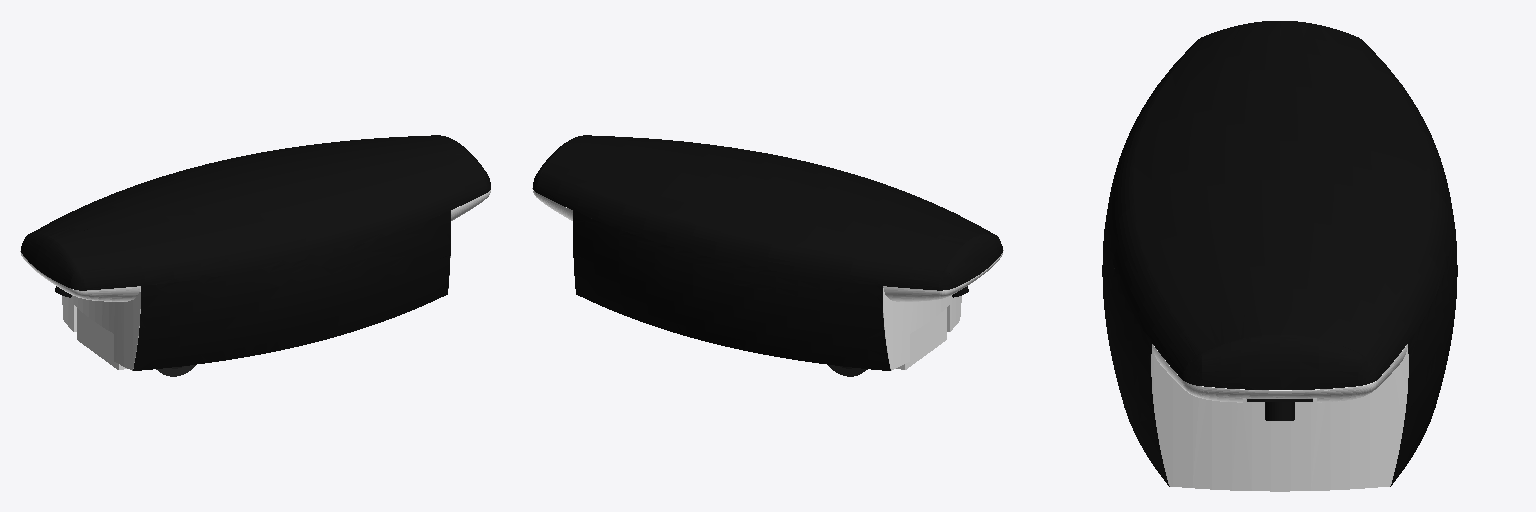
URDF robot description (scriba):
<?xml version="1.0"?>
	<robot name="scriba">
		<link name="base_link">
			<visual>
				<origin rpy="0 0 0" xyz="0 0 0"/>
				<geometry>
					<mesh filename="package://scriba_description/meshes/main_body.STL" scale="0.001 0.001 0.001"/>
				</geometry>
				<material name="white">
       			<color rgba="1 1 1 1"/>
     			</material>
			</visual>
		</link>
		
		<link name="carter">
			<visual>
				<origin rpy="0 0 0" xyz="0 0 0"/>
				<geometry>
					<mesh filename="package://scriba_description/meshes/carter.STL" scale="0.001 0.001 0.001"/>
				</geometry>
				<material name="black">
       			<color rgba="0.1 0.1 0.1 0.9"/>
     			</material>
			</visual>
		</link>
		
		<joint name="base_link_to_carter" type="fixed">
			<parent link="base_link"/>
			<child link="carter"/>
			<origin xyz="0 0 0"/>
		</joint>

		<link name="front_wheel_support">
			<visual>
				<origin rpy="0 0 0" xyz="0 0 0"/>
				<geometry>
					<mesh filename="package://scriba_description/meshes/front_wheel_support.STL" scale="0.001 0.001 0.001"/>
				</geometry>
				<material name="white"/>
			</visual>
		</link>
		
		<joint name="base_link_to_front_wheel_support" type="revolute">
   		<parent link="base_link"/>
   		<child link="front_wheel_support"/>
   		<origin rpy="0 0 0" xyz="0.2156 0 0"/>
   		<limit effort="1000.0" lower="-1.57080" upper="1.57080" velocity="0.5"/>
   		<axis xyz="0 0 1"/>
  		</joint>
  		
		<link name="motor">
			<visual>
				<origin rpy="0 0 0" xyz="0 0 0"/>
				<geometry>
					<mesh filename="package://scriba_description/meshes/motor.STL" scale="0.001 0.001 0.001"/>
				</geometry>
				<material name="grey">
       			<color rgba="0.3 0.3 0.3 1"/>
     			</material>
			</visual>
		</link>
		
		<joint name="front_wheel_support_to_motor" type="fixed">
			<parent link="front_wheel_support"/>
			<child link="motor"/>
			<origin xyz="0 0.016 0"/>
		</joint>

		<link name="front_wheel">
			<visual>
				<origin rpy="1.57080 0 0" xyz="0 0 0"/>
				<geometry>
					<mesh filename="package://scriba_description/meshes/wheel.STL" scale="0.001 0.001 0.001"/>
				</geometry>
				<material name="dark_grey">
       			<color rgba="0.2 0.2 0.2 1"/>
     			</material>
			</visual>
		</link>
		
		<joint name="front_wheel_support_to_front_wheel" type="continuous">
			<parent link="front_wheel_support"/>
			<child link="front_wheel"/>
			<origin xyz="0 0 0"/>
			<axis xyz="0 1 0"/>
		</joint>
		
		<link name="left_rear_wheel">
			<visual>
				<origin rpy="1.57080 0 0" xyz="0 0 0"/>
				<geometry>
					<mesh filename="package://scriba_description/meshes/wheel.STL" scale="0.001 0.001 0.001"/>
				</geometry>
				<material name="dark_grey"/>
			</visual>
		</link>

		<link name="right_rear_wheel">
			<visual>
				<origin rpy="1.57080 0 0" xyz="0 0 0"/>
				<geometry>
					<mesh filename="package://scriba_description/meshes/wheel.STL" scale="0.001 0.001 0.001"/>
				</geometry>
				<material name="dark_grey"/>
			</visual>
		</link>

		<joint name="base_link_to_left_rear_wheel" type="continuous">
			<parent link="base_link"/>
			<child link="left_rear_wheel"/>
			<origin xyz="0 0.04920 0"/>
			<axis xyz="0 1 0"/>
		</joint>

		<joint name="base_link_to_right_rear_wheel" type="continuous">
			<parent link="base_link"/>
			<child link="right_rear_wheel"/>
			<origin xyz="0 -0.04920 0"/>
			<axis xyz="0 1 0"/>
		</joint>

		<link name="front_camera_support">
			<visual>
				<origin rpy="0 0 0" xyz="0 0 0"/>
				<geometry>
					<mesh filename="package://scriba_description/meshes/camera_support.STL" scale="0.001 0.001 0.001"/>
				</geometry>
				<material name="grey"/>
			</visual>
		</link>

		<joint name="base_link_to_front_camera_support" type="fixed">
			<parent link="base_link"/>
			<child link="front_camera_support"/>
			<origin xyz="0.25697 0 0.06050"/>
		</joint>
		
		<link name="front_camera">
			<visual>
				<origin rpy="0 0 0" xyz="0 0 0"/>
				<geometry>
					<mesh filename="package://scriba_description/meshes/camera.STL" scale="0.001 0.001 0.001"/>
				</geometry>
				<material name="black"/>
			</visual>
		</link>		

		<joint name="front_camera_support_to_front_camera" type="revolute">
   		<parent link="front_camera_support"/>
   		<child link="front_camera"/>
   		<origin rpy="0 0 0" xyz="0.018 0 0.010"/>
   		<limit effort="1000.0" lower="0.75" upper="1.57080" velocity="0.5"/>
   		<axis xyz="0 1 0"/>
  		</joint>

		<link name="front_camera_img_origin"/>

		<joint name="front_camera_to_front_camera_img_origin" type="fixed">
			<parent link="front_camera"/>
			<child link="front_camera_img_origin"/>
			<origin xyz="0.01410 0 0.005"/>
		</joint>
		
		<link name="rear_camera_support">
			<visual>
				<origin rpy="0 0 3.14159" xyz="0 0 0"/>
				<geometry>
					<mesh filename="package://scriba_description/meshes/camera_support.STL" scale="0.001 0.001 0.001"/>
				</geometry>
				<material name="grey"/>
			</visual>
		</link>

		<joint name="base_link_to_rear_camera_support" type="fixed">
			<parent link="base_link"/>
			<child link="rear_camera_support"/>
			<origin xyz="-0.04177 0 0.06050"/>
		</joint>
		
		<link name="rear_camera">
			<visual>
				<origin rpy="0 0 3.14159" xyz="0 0 0"/>
				<geometry>
					<mesh filename="package://scriba_description/meshes/camera.STL" scale="0.001 0.001 0.001"/>
				</geometry>
				<material name="black"/>
			</visual>
		</link>		

		<joint name="rear_camera_support_to_rear_camera" type="revolute">
   		<parent link="rear_camera_support"/>
   		<child link="rear_camera"/>
   		<origin rpy="0 -2.3208 0" xyz="-0.018 0 0.010"/>
   		<limit effort="1000.0" lower="0.75" upper="1.57080" velocity="0.5"/>
   		<axis xyz="0 1 0"/>
  		</joint>

		<link name="rear_camera_img_origin"/>

		<joint name="rear_camera_to_rear_camera_img_origin" type="fixed">
			<parent link="rear_camera"/>
			<child link="rear_camera_img_origin"/>
			<origin xyz="0.01410 0 0.005"/>
		</joint>

		<link name="slider_base">
			<visual>
				<origin rpy="0 0 0" xyz="0 0 0"/>
				<geometry>
					<mesh filename="package://scriba_description/meshes/slider_base.STL" scale="0.001 0.001 0.001"/>
				</geometry>
				<material name="white"/>
			</visual>
		</link>

		<joint name="base_link_to_slider_base" type="revolute">
   		<parent link="base_link"/>
   		<child link="slider_base"/>
   		<origin rpy="0 0 0" xyz="0 0 0.01670"/>
   		<limit effort="1000.0" lower="-0.11" upper="0.11" velocity="0.5"/>
   		<axis xyz="0 0 1"/>
  		</joint>

		<link name="slider">
			<visual>
				<origin rpy="0 0 0" xyz="0 0 0"/>
				<geometry>
					<mesh filename="package://scriba_description/meshes/slider.STL" scale="0.001 0.001 0.001"/>
				</geometry>
				<material name="grey"/>
			</visual>
		</link>

		<joint name="slider_base_to_slider" type="prismatic">
   		<parent link="slider_base"/>
   		<child link="slider"/>
   		<origin rpy="0 0 0" xyz="0.13311 0 0.017"/>
   		<limit effort="1000.0" lower="-0.040" upper="0.040" velocity="0.5"/>
   		<axis xyz="0 1 0"/>
  		</joint>

		<link name="slider_camera_support">
			<visual>
				<origin rpy="0 0 0" xyz="0 0 0"/>
				<geometry>
					<mesh filename="package://scriba_description/meshes/slider_camera_support.STL" scale="0.001 0.001 0.001"/>
				</geometry>
				<material name="grey"/>
			</visual>
		</link>
		
		<joint name="slider_to_slider_camera_support" type="prismatic">
   		<parent link="slider"/>
   		<child link="slider_camera_support"/>
   		<origin rpy="0 0 0" xyz="-0.061 0 -0.004"/>
   		<limit effort="1000.0" lower="0" upper="-0.020" velocity="0.5"/>
   		<axis xyz="0 0 1"/>
  		</joint>
  		
		<link name="slider_camera">
			<visual>
				<origin rpy="0 0 0" xyz="0 0 0"/>
				<geometry>
					<mesh filename="package://scriba_description/meshes/slider_camera.STL" scale="0.001 0.001 0.001"/>
				</geometry>
				<material name="black"/>
			</visual>
		</link>  		

		<joint name="slider_camera_support_to_slider_camera" type="revolute">
			<parent link="slider_camera_support"/>
			<child link="slider_camera"/>
			<origin xyz="0.025 0 0.001"/>
			<limit effort="1000.0" lower="-1.57080" upper="1.57080" velocity="0.5"/>
   		<axis xyz="0 1 0"/>
		</joint>

		<link name="slider_camera_img_origin"/>

		<joint name="slider_camera_to_slider_camera_img_origin" type="fixed">
			<parent link="slider_camera"/>
			<child link="slider_camera_img_origin"/>
			<origin xyz="0.01410 0 0.005"/>
		</joint>
	</robot>

--- Render facts (derived) ---
3 views of the same robot in one strip: view 1: azimuth 30°, elevation 25°; view 2: azimuth 150°, elevation 25°; view 3: azimuth 270°, elevation 25° (orthographic).
Robot: scriba — 18 links, 17 joints (5 revolute, 3 continuous, 2 prismatic, 7 fixed); root link base_link; default pose: joints at zero except 2 at the middle of their limits (front_camera_support_to_front_camera = 1.16, rear_camera_support_to_rear_camera = 1.16).
Links seen in each view (by area): view 1: carter, base_link; view 2: carter, base_link; view 3: carter, base_link, front_camera.
Boxes of the visible links, left/top/right/bottom form: carter: left=21, top=135, right=490, bottom=370; base_link: left=20, top=190, right=490, bottom=370; carter: left=533, top=135, right=1002, bottom=370; base_link: left=532, top=188, right=1003, bottom=370; carter: left=1102, top=21, right=1457, bottom=486; base_link: left=1151, top=344, right=1408, bottom=491; front_camera: left=1247, top=399, right=1312, bottom=420.
Size in the robot's own frame: 0.408 by 0.1817 by 0.1292 metres.
Meshes: 11 distinct files referenced, 15 mesh visuals loaded (11 binary STL).
